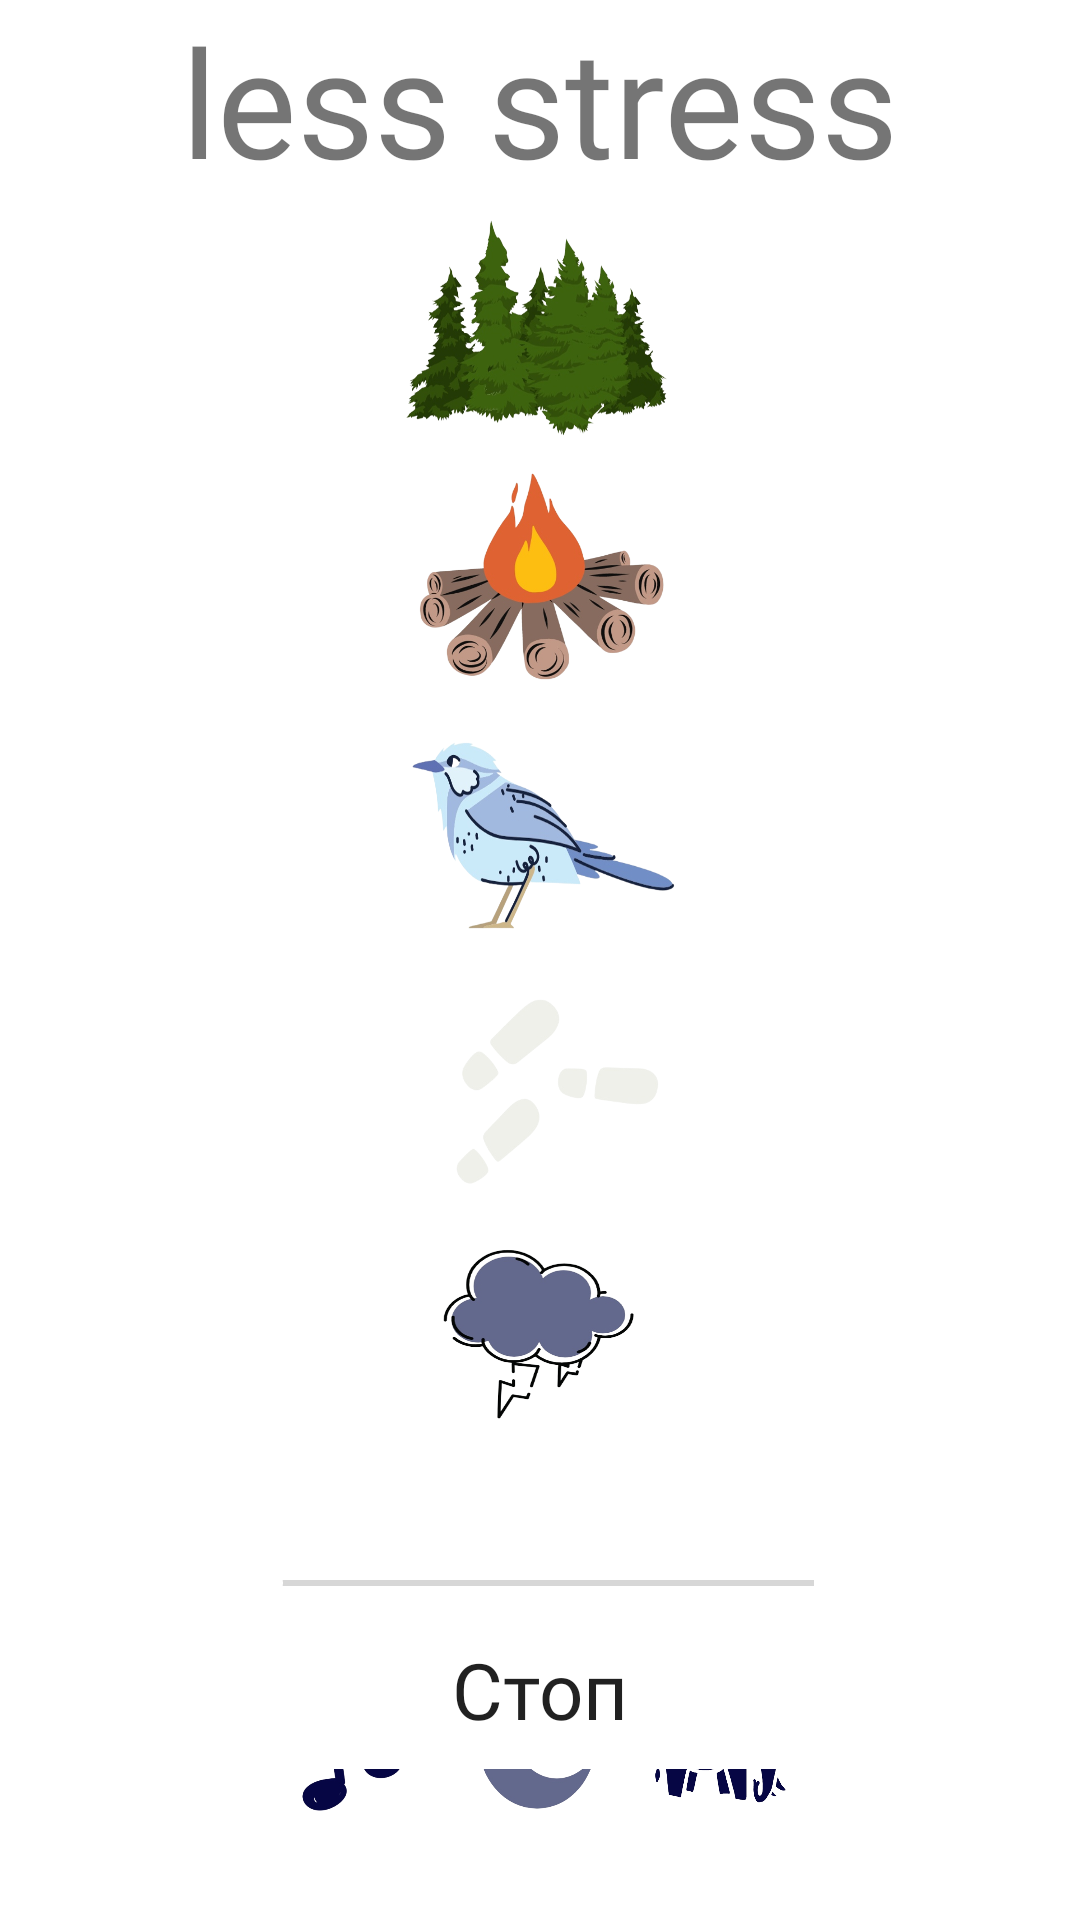

Named icons in this screenshot (1080 × 1920) and their centers, [x,y]:
bird: [543,835]
bonfire: [542,576]
forest: [536,328]
thunder: [538,1334]
